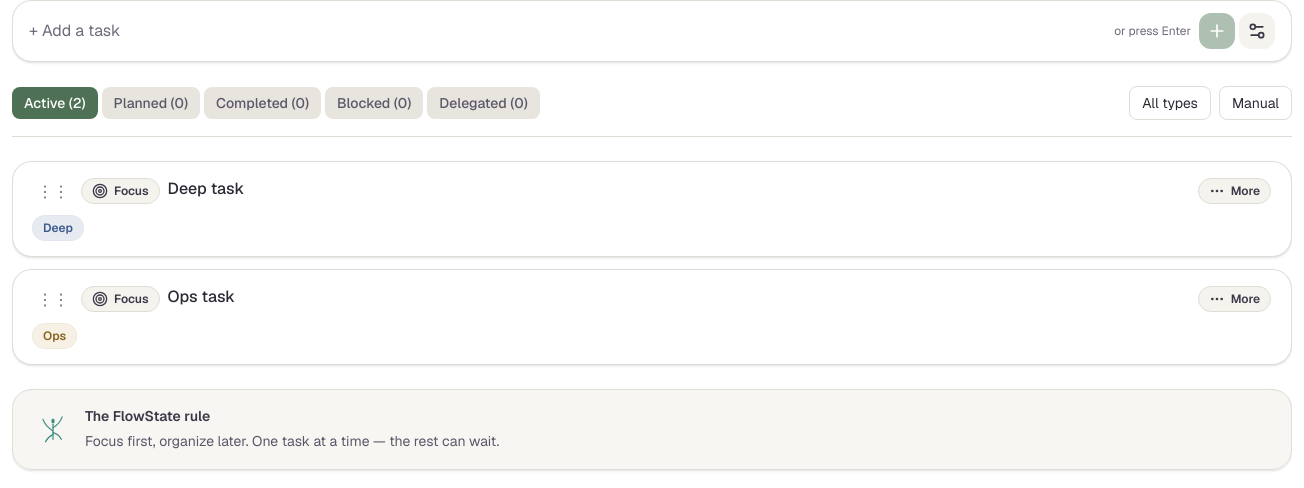
Test: TaskList › filters the visible tab by work type
What coordinates should you click on to do the following:
click the button with aria-label "Filter by type"
I would click on:
 (1170, 103)
Its box is [1129, 86, 1211, 120].
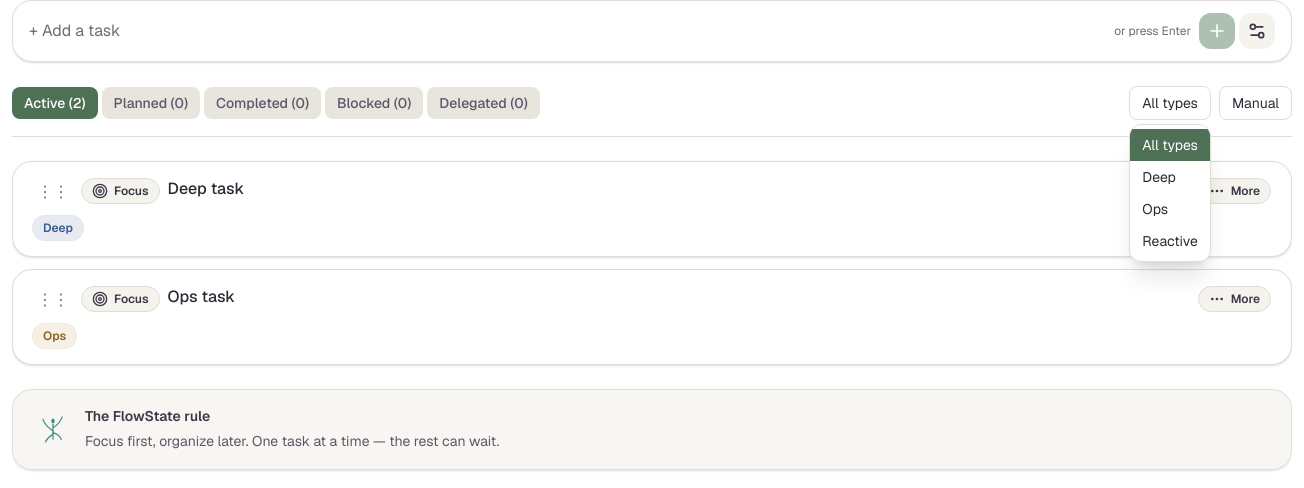
What coordinates should you click on to do the following:
click the option "Deep"
I would click on:
 (1159, 177)
Its box is [1142, 168, 1176, 186].
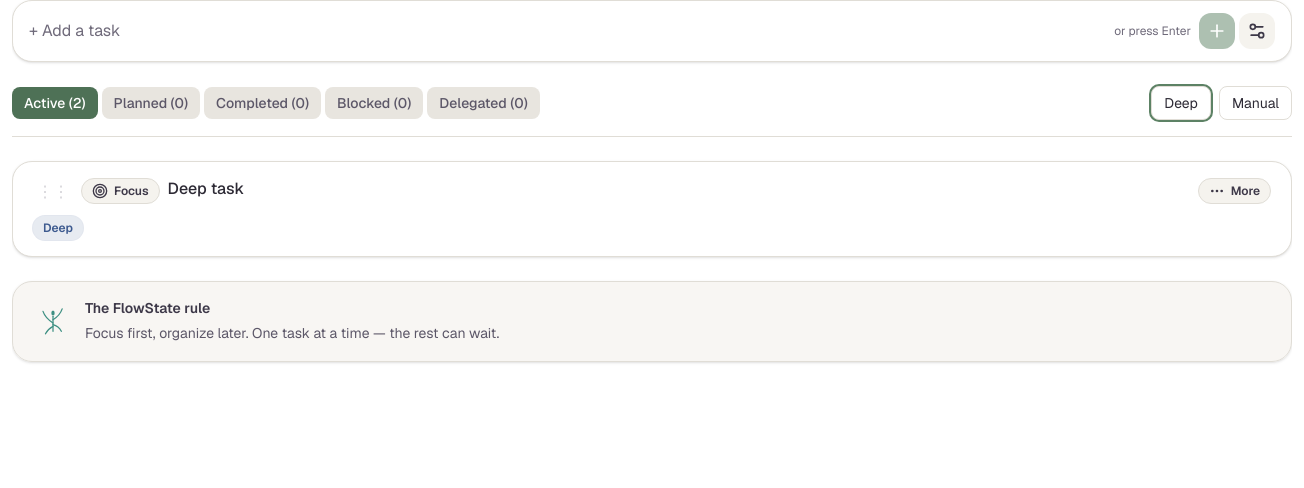
Expected: the button "Deep task" is shown, [168, 178, 1190, 200]
Result: the button "Ops task" is gone
